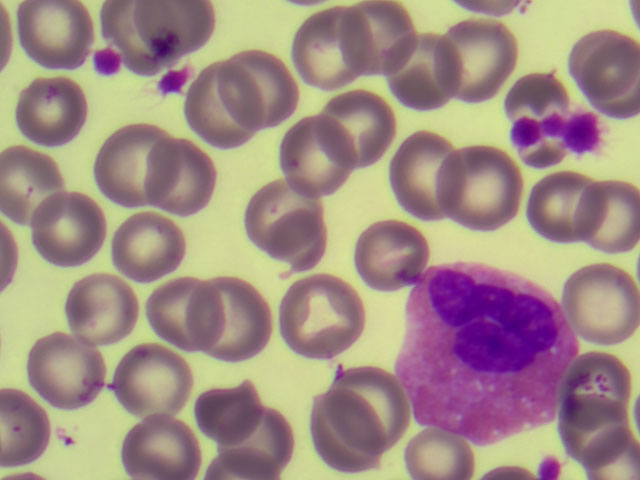Platelets: (571, 116, 596, 151), (513, 118, 537, 147), (160, 70, 185, 97), (95, 49, 120, 75), (544, 116, 566, 134)
RBC: (392, 127, 463, 221), (283, 275, 363, 358), (93, 128, 180, 202), (294, 6, 371, 89), (441, 147, 516, 232), (328, 364, 401, 451), (193, 279, 271, 356), (436, 20, 511, 99), (191, 63, 260, 148), (341, 1, 414, 81), (387, 36, 463, 112), (31, 191, 103, 268), (312, 393, 381, 470), (221, 53, 293, 126), (533, 170, 606, 242), (244, 180, 323, 245), (571, 267, 640, 340), (285, 119, 352, 194), (120, 414, 196, 480), (120, 344, 189, 416), (33, 334, 106, 402), (15, 74, 82, 148), (147, 141, 214, 214), (66, 275, 134, 346), (352, 221, 420, 291), (150, 284, 225, 347), (212, 407, 290, 467), (112, 214, 185, 278), (1, 149, 62, 223), (571, 351, 631, 426), (578, 183, 640, 254), (22, 1, 90, 64), (560, 401, 630, 461), (104, 1, 170, 64), (576, 33, 639, 97), (134, 1, 207, 51), (195, 381, 259, 438), (1, 390, 48, 466), (581, 424, 640, 480), (268, 218, 328, 270), (406, 433, 469, 480)
WBC: (404, 270, 564, 435)
